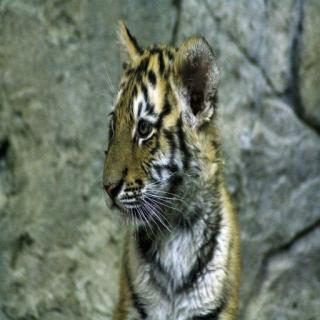Tiger: (94, 17, 256, 320)
